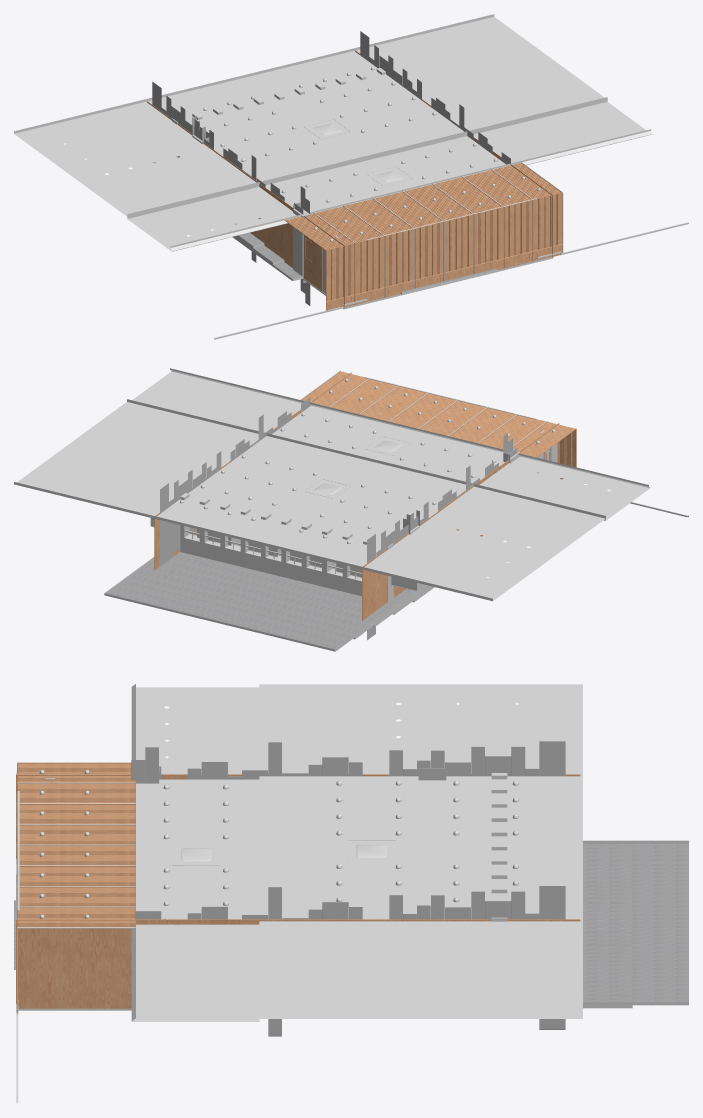
The model's file is lecture_hall.fbx.
3 renders of one model, top to bottom at view 1: azimuth 30°, elevation 25°; view 2: azimuth 150°, elevation 25°; view 3: azimuth 270°, elevation 25°, orthographic. The views are drawn at different scales.
Visible parts, largest first — view 1: ceiling, front_wall_6, front_wall_7, front_wall_10, front_wall_9, front_wall_11, front_wall_8, front_wall_12, front_wall_5, side_wall, wall_mat_R, metal_molding (+5 smaller); view 2: ceiling, floor, pillars, wall_mat_L, side_wall, wall_mat_R, front_wall_5, front_wall_10, front_wall_7, front_wall_11, front_wall_8, front_wall_9 (+6 smaller); view 3: ceiling, floor, side_wall, wall_mat_R, wall_mat_L, front_wall_6, front_wall_12, front_wall_11, front_wall_8, front_wall_9, front_wall_10, front_wall_7 (+5 smaller).
Boxes of the visible parts, bbox=[...] form: ceiling: bbox=[14, 14, 652, 251]; front_wall_6: bbox=[315, 206, 384, 304]; front_wall_7: bbox=[345, 199, 414, 297]; front_wall_10: bbox=[433, 177, 503, 273]; front_wall_9: bbox=[404, 184, 473, 280]; front_wall_11: bbox=[463, 169, 532, 268]; front_wall_8: bbox=[374, 191, 443, 288]; front_wall_12: bbox=[493, 162, 562, 261]; front_wall_5: bbox=[284, 213, 354, 310]; side_wall: bbox=[147, 50, 552, 307]; wall_mat_R: bbox=[152, 81, 310, 305]; metal_molding: bbox=[214, 162, 688, 339]; ceiling: bbox=[14, 368, 649, 601]; floor: bbox=[104, 537, 434, 651]; pillars: bbox=[180, 493, 393, 602]; wall_mat_L: bbox=[160, 397, 310, 566]; side_wall: bbox=[154, 372, 559, 620]; wall_mat_R: bbox=[367, 433, 517, 640]; front_wall_5: bbox=[513, 421, 576, 479]; front_wall_10: bbox=[360, 386, 427, 421]; front_wall_7: bbox=[449, 407, 515, 443]; front_wall_11: bbox=[331, 379, 397, 414]; front_wall_8: bbox=[419, 400, 485, 435]; front_wall_9: bbox=[390, 393, 456, 428]; ceiling: bbox=[131, 684, 582, 1021]; floor: bbox=[14, 840, 688, 1010]; side_wall: bbox=[16, 774, 580, 1008]; wall_mat_R: bbox=[131, 741, 565, 783]; wall_mat_L: bbox=[135, 886, 565, 1036]; front_wall_6: bbox=[17, 783, 135, 803]; front_wall_12: bbox=[17, 907, 135, 927]; front_wall_11: bbox=[17, 886, 135, 906]; front_wall_8: bbox=[17, 824, 135, 844]; front_wall_9: bbox=[17, 845, 135, 865]; front_wall_10: bbox=[17, 866, 135, 885]; front_wall_7: bbox=[17, 804, 135, 823].
Size of the model in its own units: 3598 by 823 by 3067.
